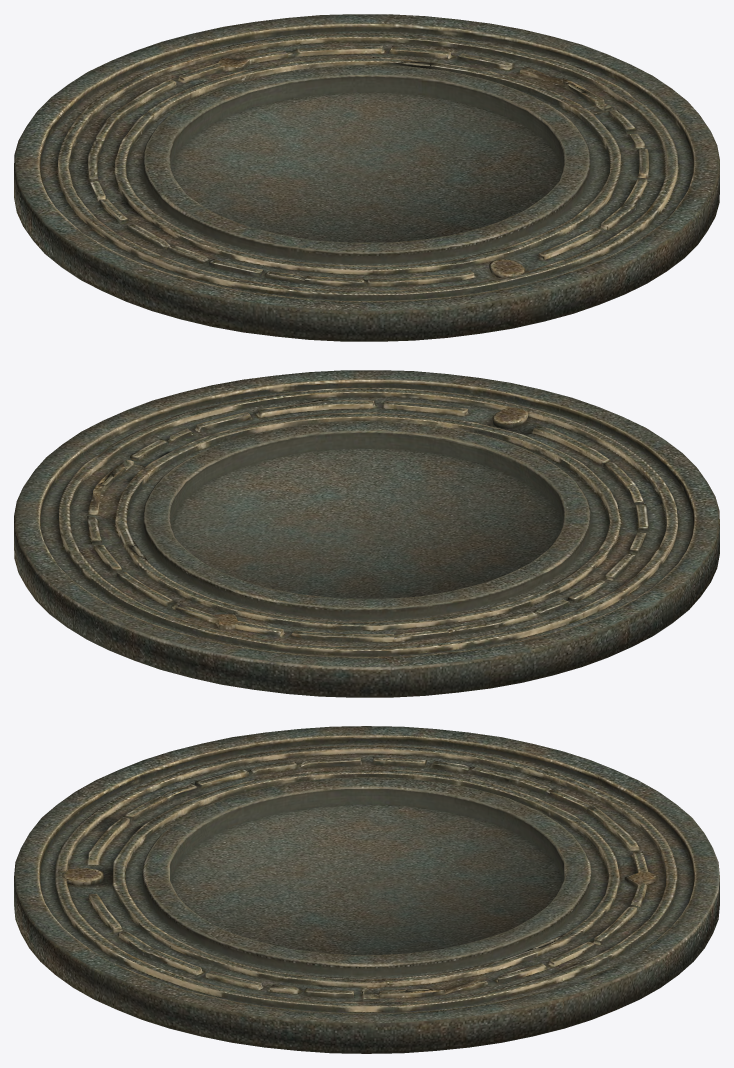
The model's file is tripo_convert_10f8787a-fa7d-4d19-bb33-dc7aaca4083a.fbx.
3 renders of one model, top to bottom at view 1: azimuth 30°, elevation 25°; view 2: azimuth 150°, elevation 25°; view 3: azimuth 270°, elevation 25°, orthographic.
Parts seen in each view (by area): view 1: tripo_node_10f8787a; view 2: tripo_node_10f8787a; view 3: tripo_node_10f8787a.
Boxes of the visible parts, x1=… form: tripo_node_10f8787a: x1=14, y1=14, x2=719, y2=341; tripo_node_10f8787a: x1=14, y1=370, x2=719, y2=697; tripo_node_10f8787a: x1=14, y1=726, x2=719, y2=1053.
Bounding box in the file's own units: 0.998 × 0.0527 × 0.998.
1 material, 1 textured.
